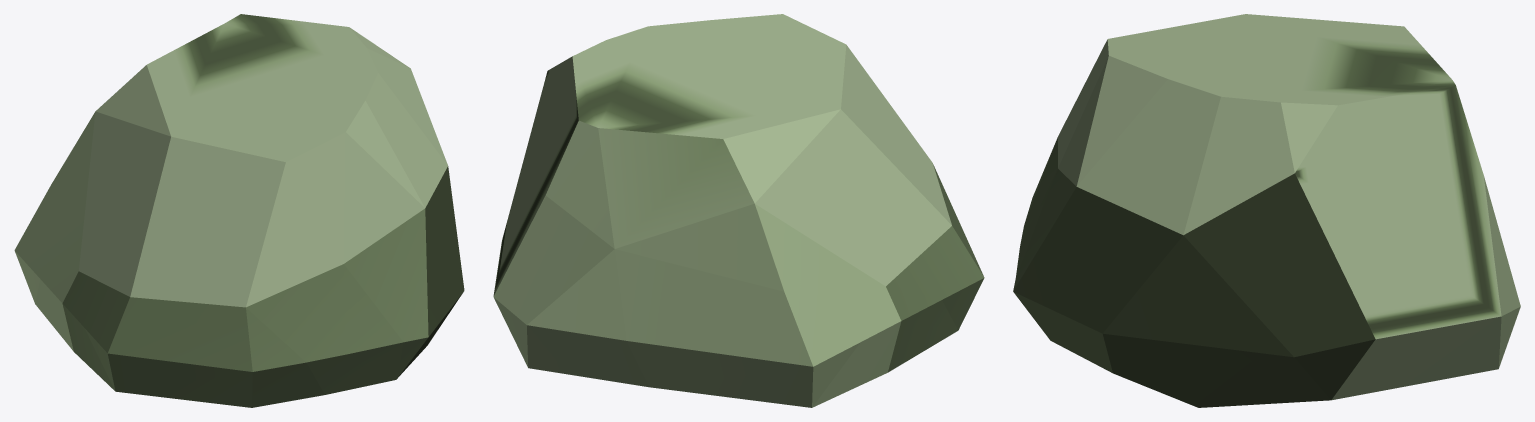
The model's file is EA_Rock31_Big_01b.glb.
3 renders of one model, left to right at view 1: azimuth 30°, elevation 25°; view 2: azimuth 150°, elevation 25°; view 3: azimuth 270°, elevation 25°, orthographic. The views are drawn at different scales.
Visible parts, largest first — view 1: EA_Rock31_Big_01b; view 2: EA_Rock31_Big_01b; view 3: EA_Rock31_Big_01b.
Part boxes in pixels (bbox=[...]): EA_Rock31_Big_01b: bbox=[14, 14, 464, 407]; EA_Rock31_Big_01b: bbox=[493, 14, 984, 407]; EA_Rock31_Big_01b: bbox=[1013, 14, 1520, 407].
Bounding box in the file's own units: 1.21 × 0.7554 × 1.24.
Materials: 1 (1 with a texture image).
